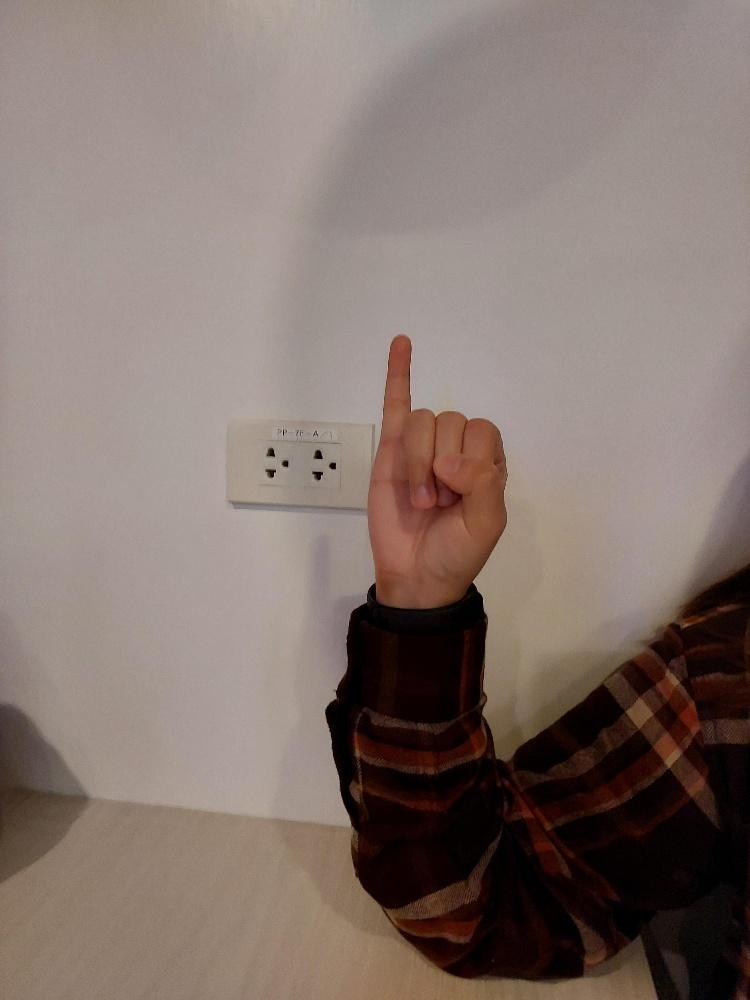i: (361, 329, 515, 600)
